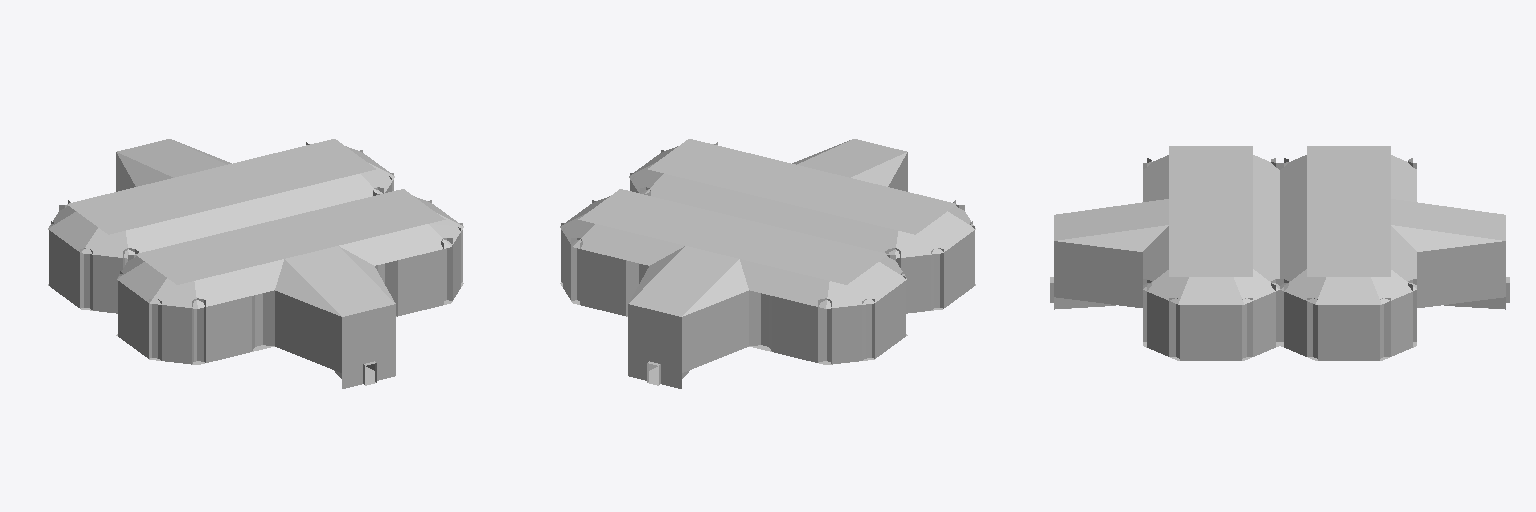
Rendered from Mirror Room.obj.
3 views of the same model, side by side, from view 1: azimuth 30°, elevation 25°; view 2: azimuth 150°, elevation 25°; view 3: azimuth 270°, elevation 25° (orthographic).
Visible parts, largest first — view 1: Shape_IndexedFaceSet.200, Shape_IndexedFaceSet.199, Shape_IndexedFaceSet.195, Shape_IndexedFaceSet.196; view 2: Shape_IndexedFaceSet.200, Shape_IndexedFaceSet.199, Shape_IndexedFaceSet.195, Shape_IndexedFaceSet.196; view 3: Shape_IndexedFaceSet.200, Shape_IndexedFaceSet.199, Shape_IndexedFaceSet.195, Shape_IndexedFaceSet.206, Shape_IndexedFaceSet.194, Shape_IndexedFaceSet.196.
Part boxes in pixels (x1,y1,x2,y2): Shape_IndexedFaceSet.200: (48,139,463,364); Shape_IndexedFaceSet.199: (49,152,460,372); Shape_IndexedFaceSet.195: (49,142,462,363); Shape_IndexedFaceSet.196: (334,360,395,388); Shape_IndexedFaceSet.200: (560,139,975,364); Shape_IndexedFaceSet.199: (563,152,974,372); Shape_IndexedFaceSet.195: (561,142,974,363); Shape_IndexedFaceSet.196: (628,360,689,388); Shape_IndexedFaceSet.200: (1054,146,1505,360); Shape_IndexedFaceSet.199: (1050,241,1509,360); Shape_IndexedFaceSet.195: (1143,158,1416,358); Shape_IndexedFaceSet.206: (1318,305,1379,332); Shape_IndexedFaceSet.194: (1318,333,1379,360); Shape_IndexedFaceSet.196: (1050,287,1509,309).
Size of the model in its own units: 4.2 by 1.13 by 5.32.